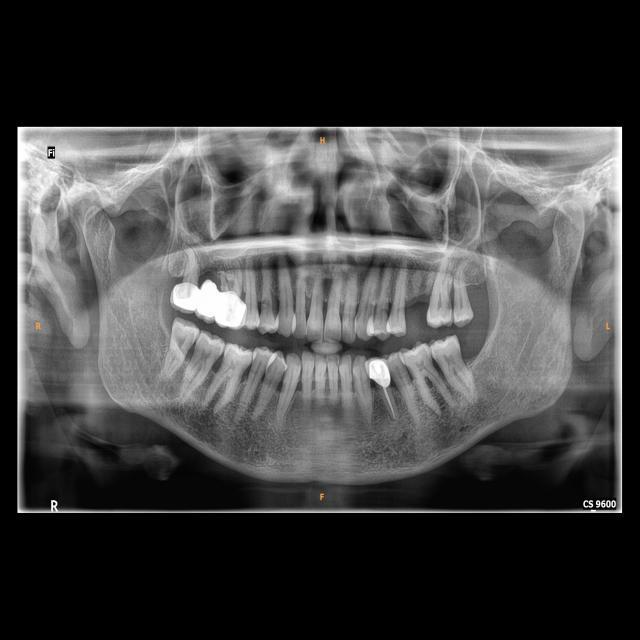kanal-tedavisi: (382, 388, 398, 419)
kaplama: (218, 290, 246, 328), (367, 358, 393, 386), (171, 286, 200, 309)
kopru: (192, 270, 222, 322)
